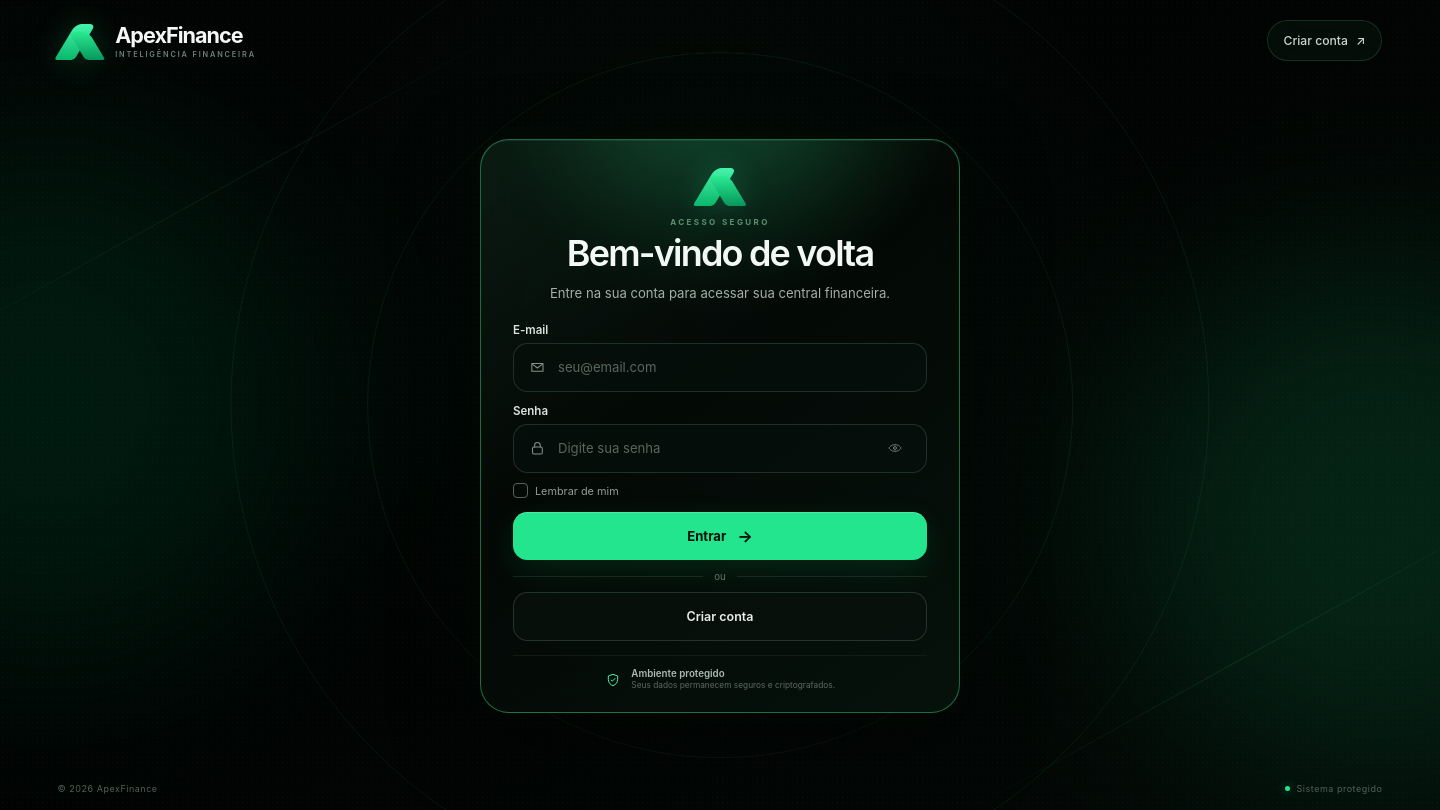
Test: Autenticação do ApexFinance › redireciona para o Dashboard depois do login
Step 1. Type "joao@example.com" into the field labelled "E-mail" → [728, 367], box [546,359,911,375]
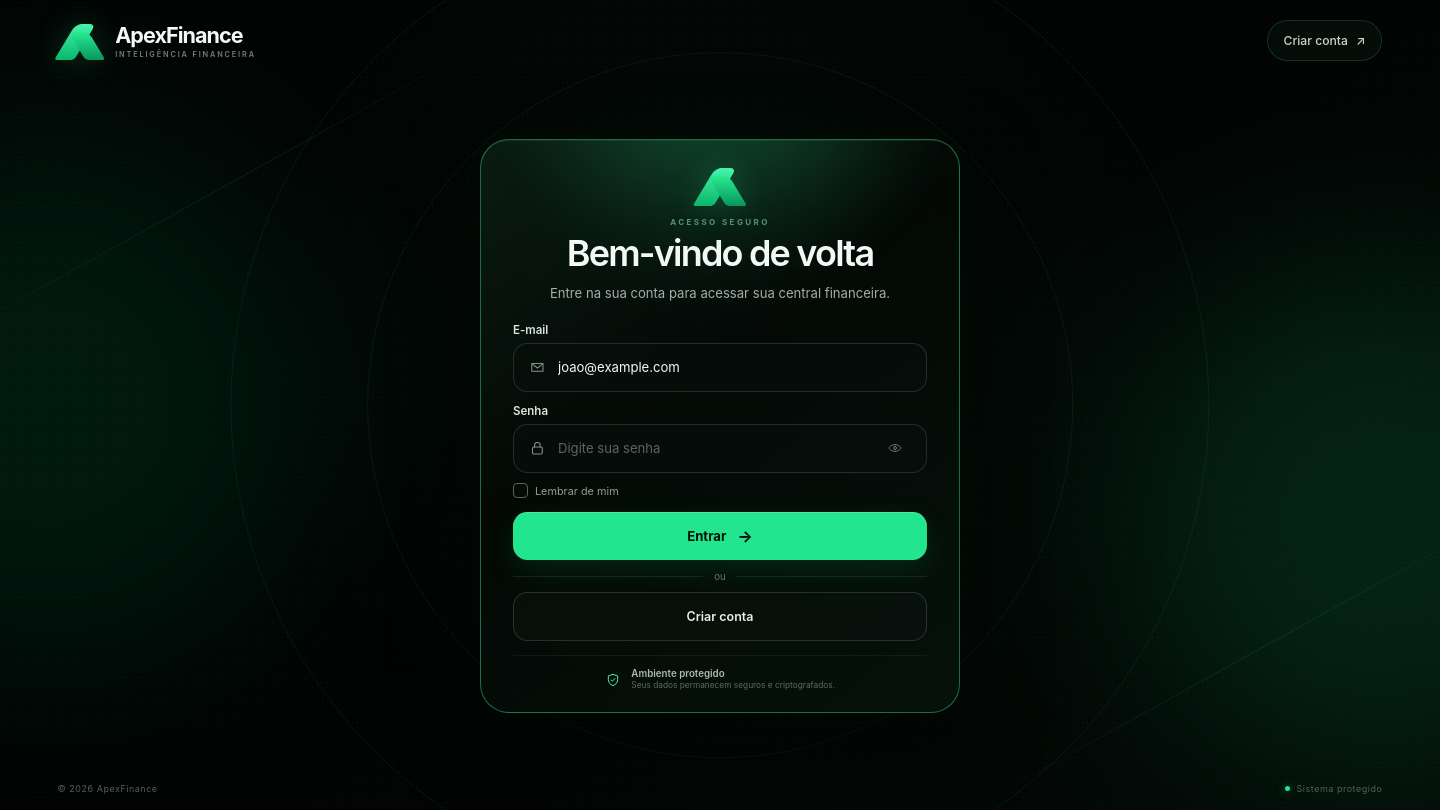
Step 2. Type "senha123" into the password field labelled "Senha" → [712, 448], box [546,440,879,456]
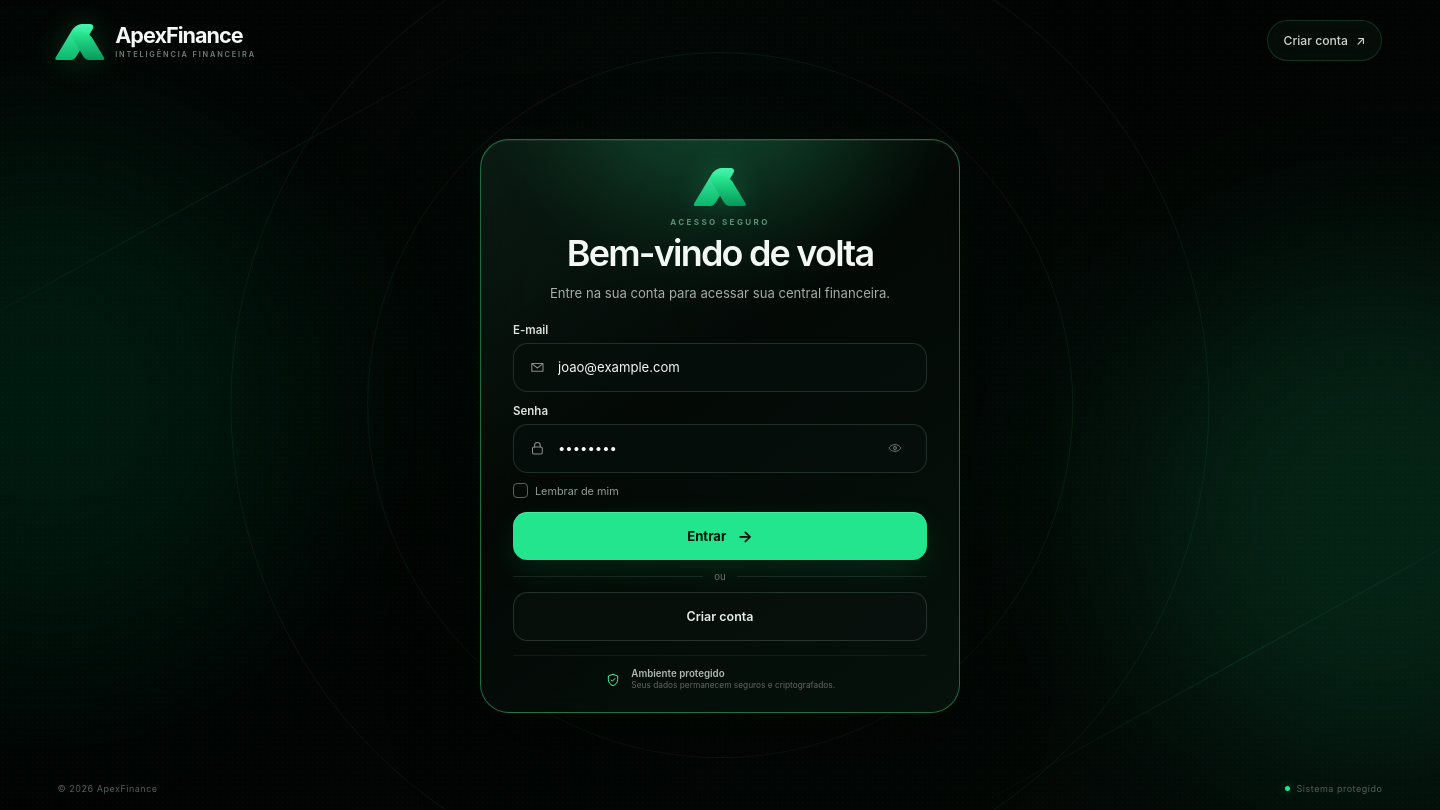
Step 3. Click the button "Entrar →" → [720, 536], box [513,512,927,560]
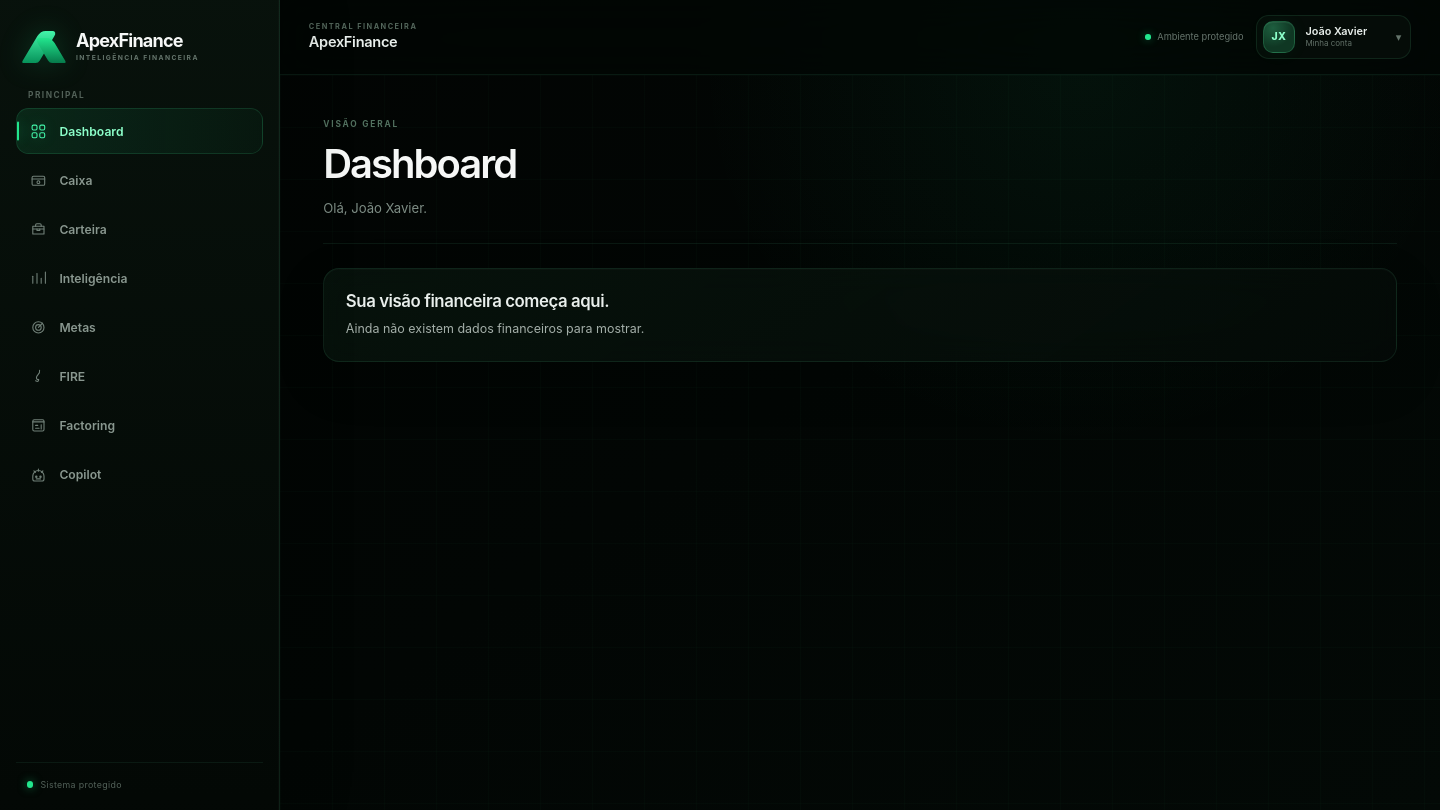
Check: the heading "Dashboard" is shown, box [323,139,516,188]
